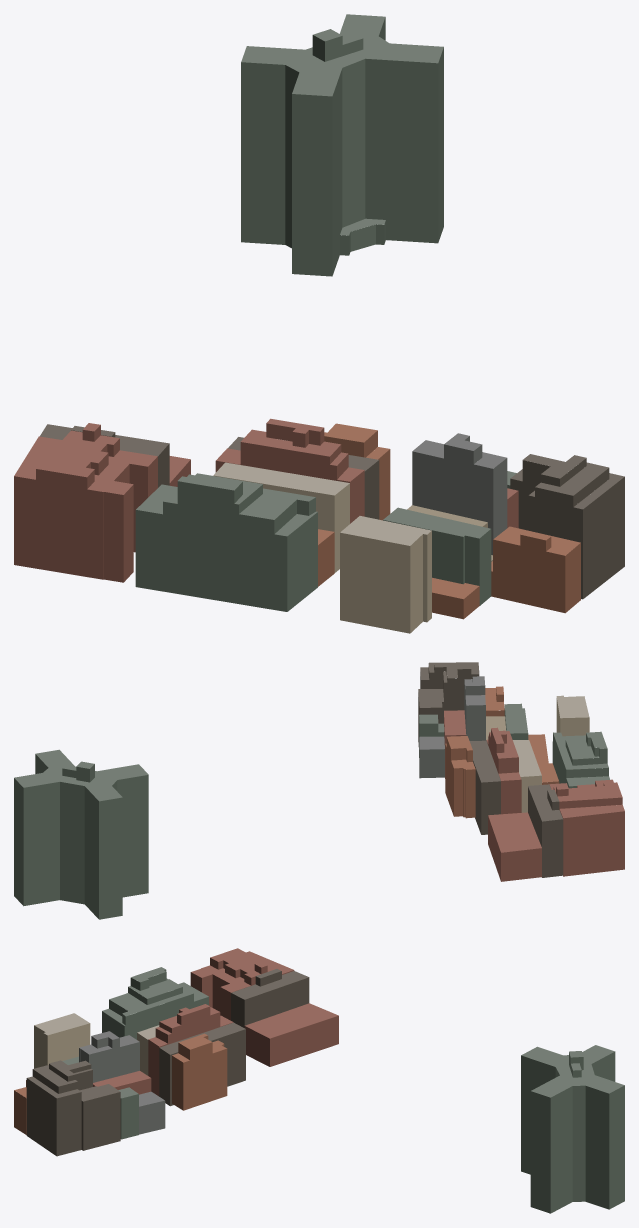
Rendered from tile--2_12.glb.
3 renders of one model, top to bottom at view 1: azimuth 30°, elevation 25°; view 2: azimuth 150°, elevation 25°; view 3: azimuth 270°, elevation 25°, orthographic. The views are drawn at different scales.
Parts seen in each view (by area): view 1: wall, roof; view 2: wall, roof; view 3: wall, roof.
Boxes of the visible parts, x1,y1,x2,y2 form: wall: (14, 17, 624, 633); roof: (14, 14, 624, 599); wall: (14, 665, 624, 919); roof: (14, 662, 624, 852); wall: (14, 957, 624, 1213); roof: (14, 948, 624, 1106).
Bounding box in the file's own units: 179 × 54.16 × 221.
